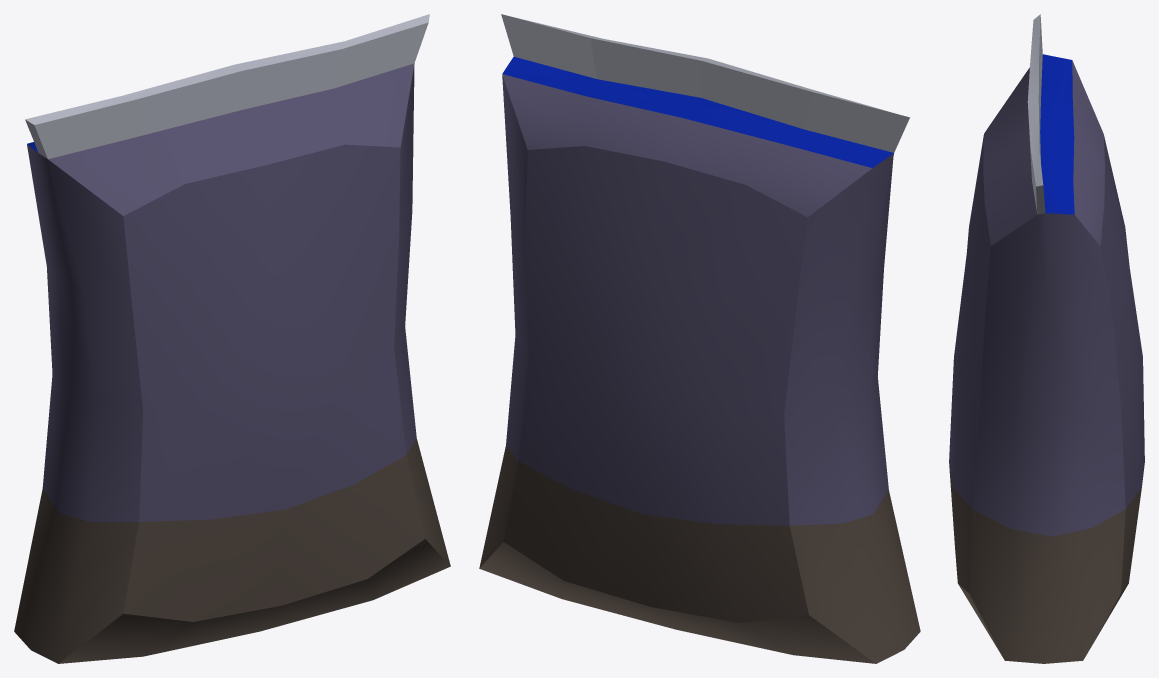
Rendered from SM_chips_bag_05.fbx.
3 views of the same model, side by side, from view 1: azimuth 30°, elevation 25°; view 2: azimuth 150°, elevation 25°; view 3: azimuth 270°, elevation 25° (orthographic). The views are drawn at different scales.
Parts seen in each view (by area): view 1: chips_bag_05; view 2: chips_bag_05; view 3: chips_bag_05.
Boxes of the visible parts, left/top/right/bottom form: chips_bag_05: left=14, top=14, right=450, bottom=663; chips_bag_05: left=479, top=14, right=920, bottom=663; chips_bag_05: left=949, top=14, right=1144, bottom=663.
Bounding box in the file's own units: 41.12 × 52.86 × 19.13.
